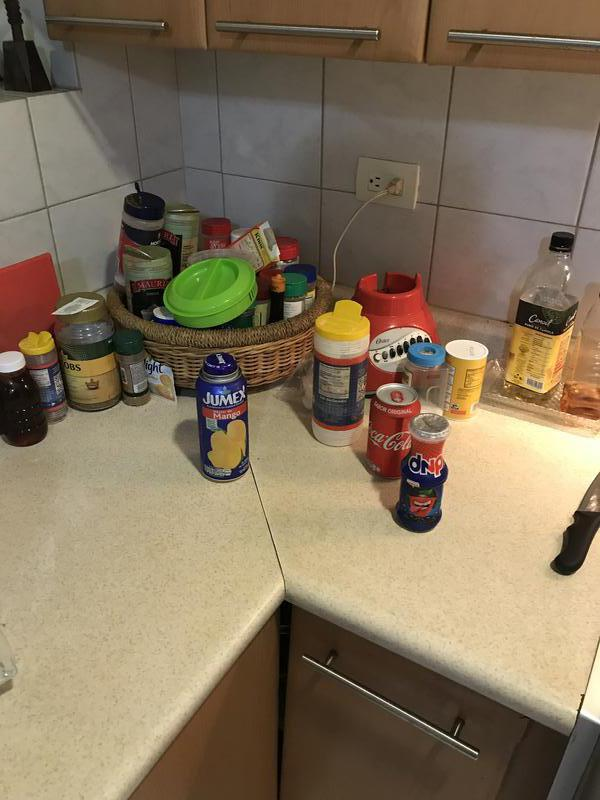coca_cola: (366, 383, 416, 478)
danup: (402, 415, 447, 534)
jugo_jumex: (196, 355, 252, 483)
